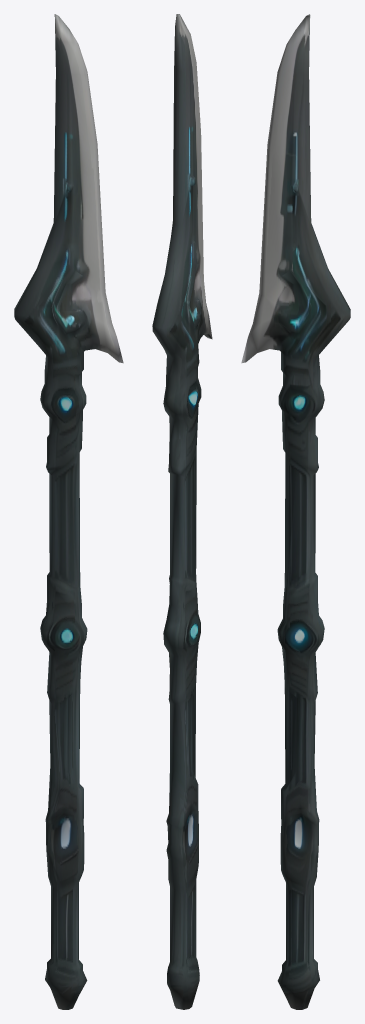
The model's file is fierce_lance.glb.
3 renders of one model, left to right at view 1: azimuth 90°, elevation 25°; view 2: azimuth 150°, elevation 25°; view 3: azimuth 270°, elevation 25°, orthographic.
Parts seen in each view (by area): view 1: fierce_lance; view 2: fierce_lance; view 3: fierce_lance.
Part boxes in pixels (x1=…): fierce_lance: x1=14, y1=14, x2=123, y2=1009; fierce_lance: x1=152, y1=14, x2=212, y2=1009; fierce_lance: x1=241, y1=14, x2=350, y2=1009.
Bounding box in the file's own units: 0.0532 × 1.9 × 0.1897.
Materials: 1 (1 with a texture image).
